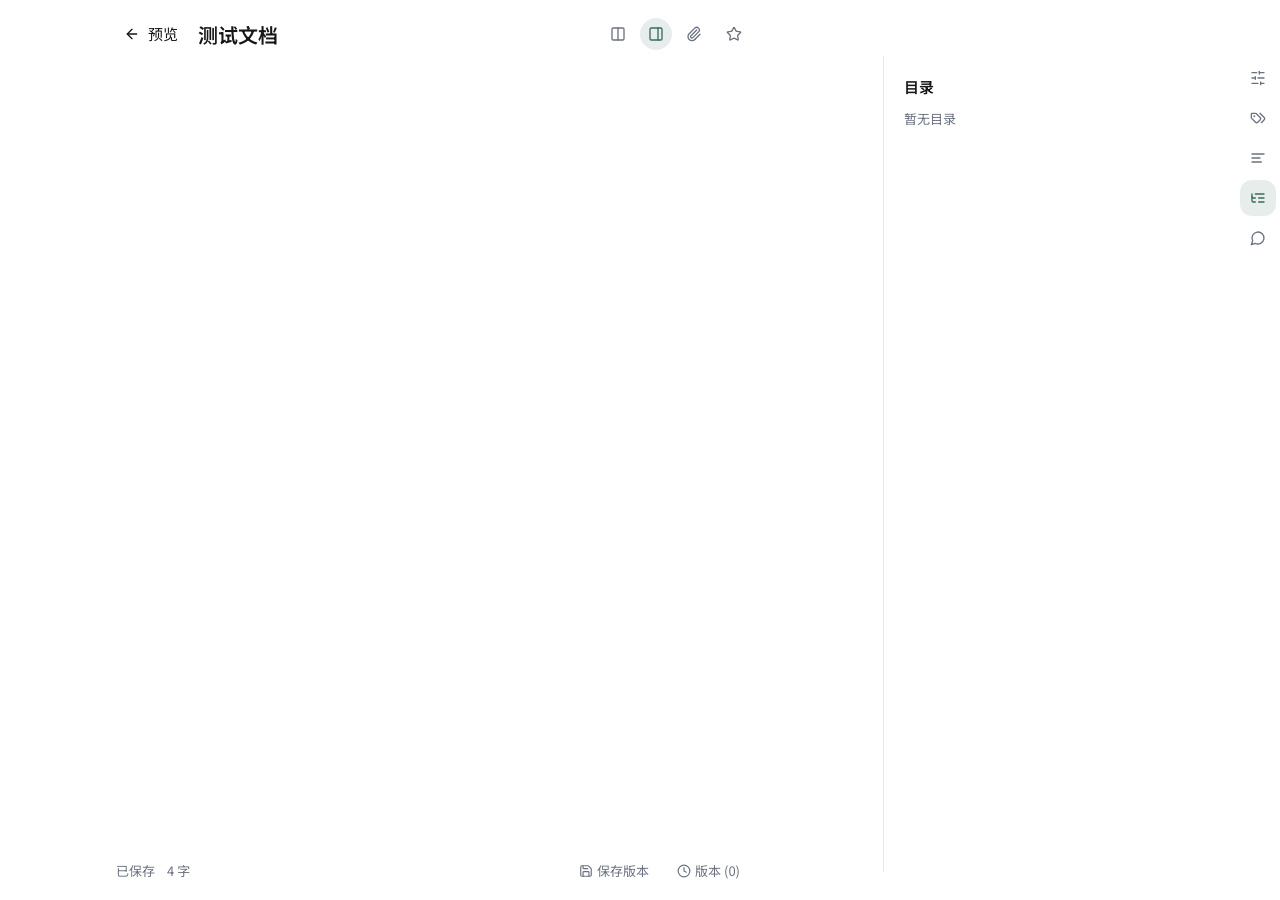
DocumentEditorPage › persists summary mode and regenerates the summary
Step 1. Click the tab with test id "editor-sidebar-tab-summary" → [1258, 158], box [1240, 140, 1276, 176]
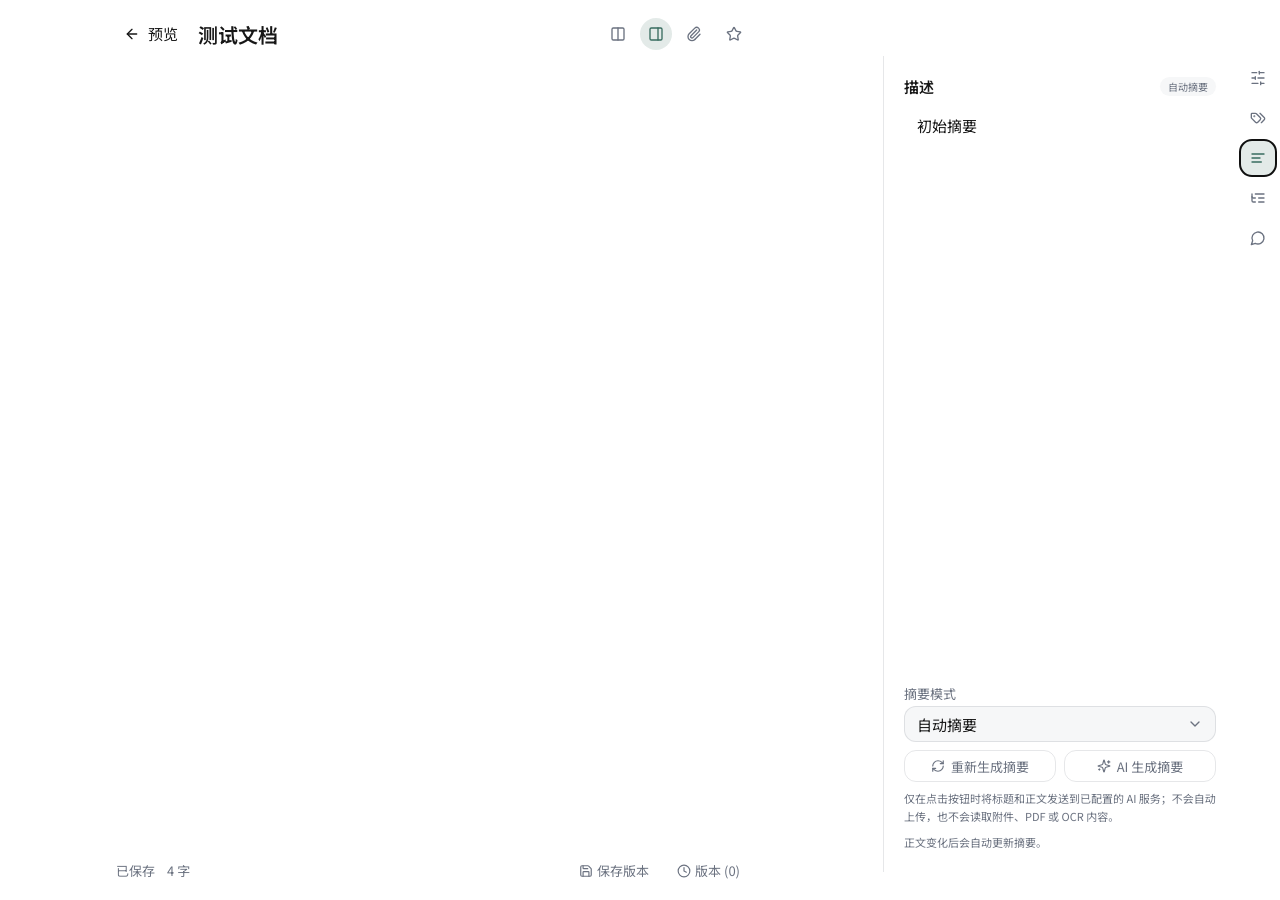
Step 2. Click the button "自动摘要" → [947, 724], box [904, 706, 1216, 742]
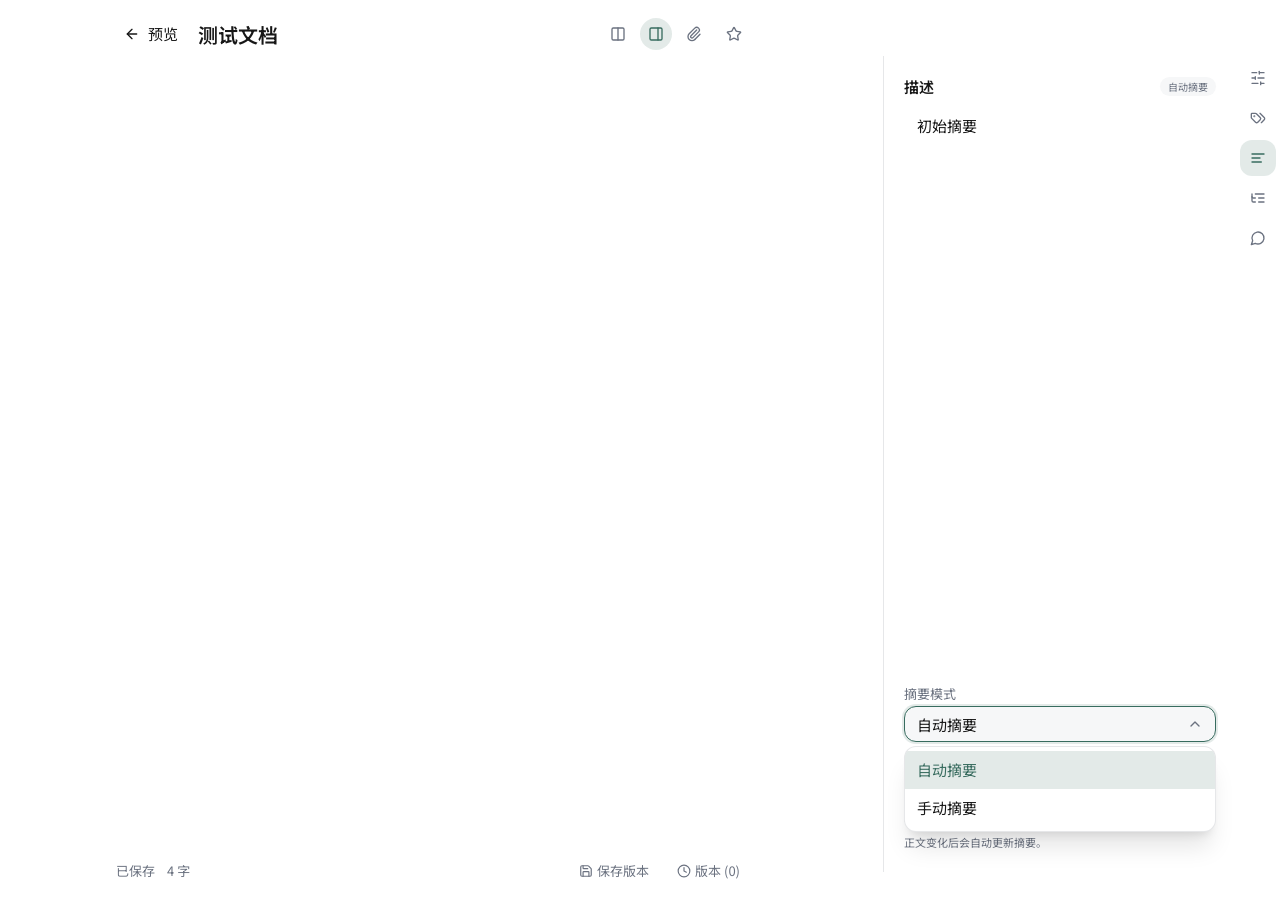
Step 3. Click the button "手动摘要" → [947, 808], box [905, 789, 1215, 827]
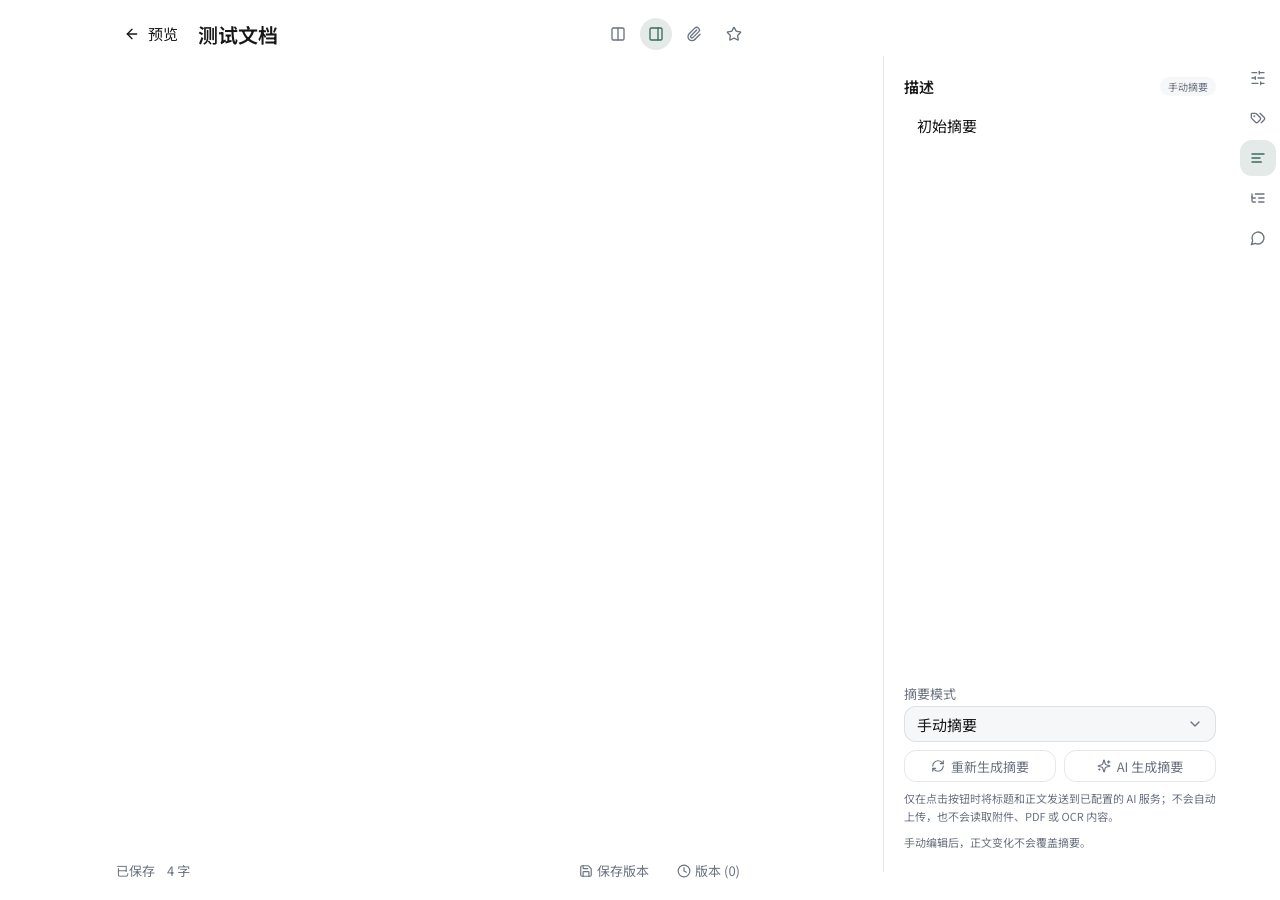
Expected: the text with test id "doc-summary-mode-badge" reads "手动摘要", [1168, 79, 1208, 94]
Step 4. Click the button with test id "doc-summary-regenerate-btn" → [980, 766], box [904, 750, 1056, 782]
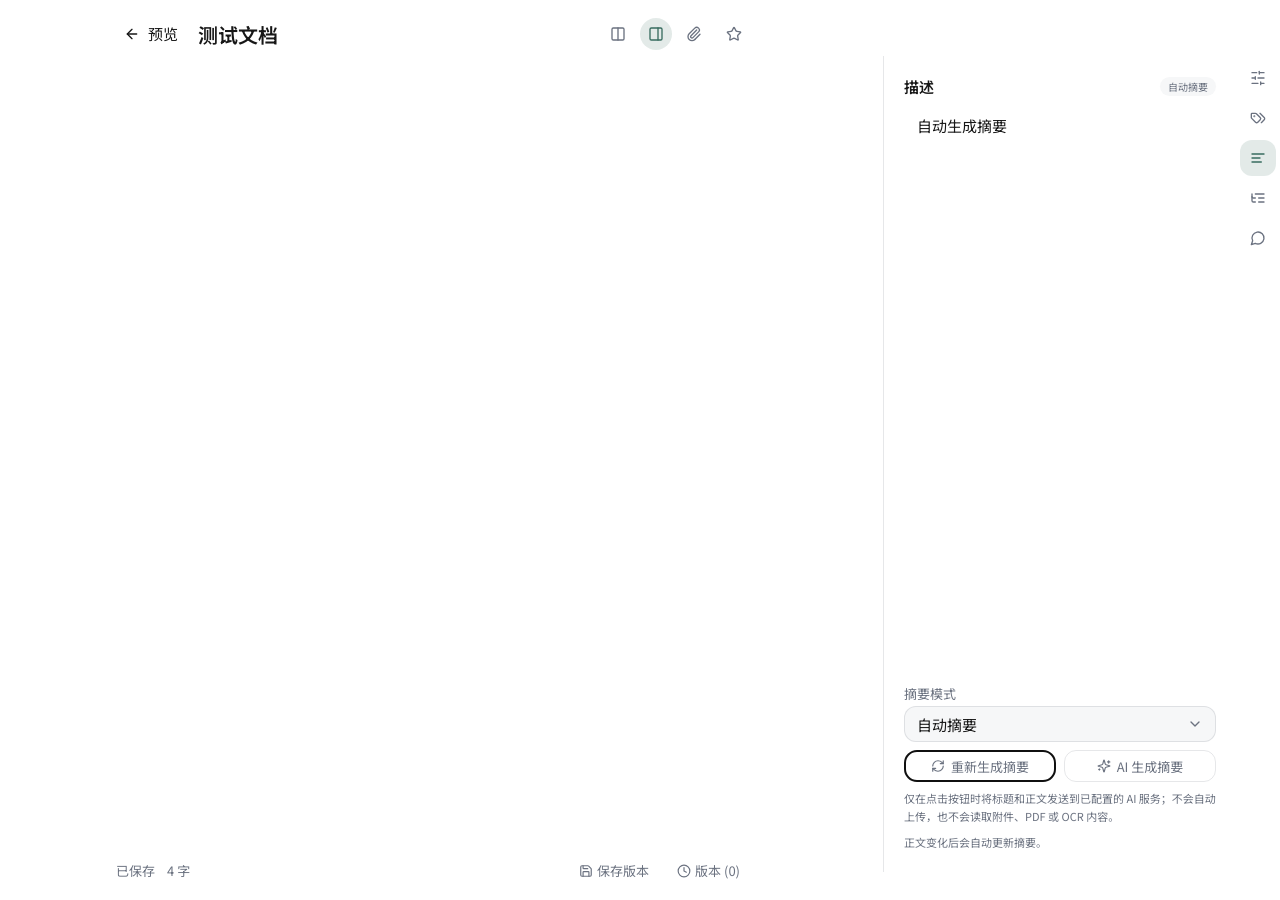
Expected: the text box with test id "doc-summary-input" holds "自动生成摘要", [904, 106, 1216, 677]
Expected: the text with test id "doc-summary-mode-badge" reads "自动摘要", [1168, 79, 1208, 94]
